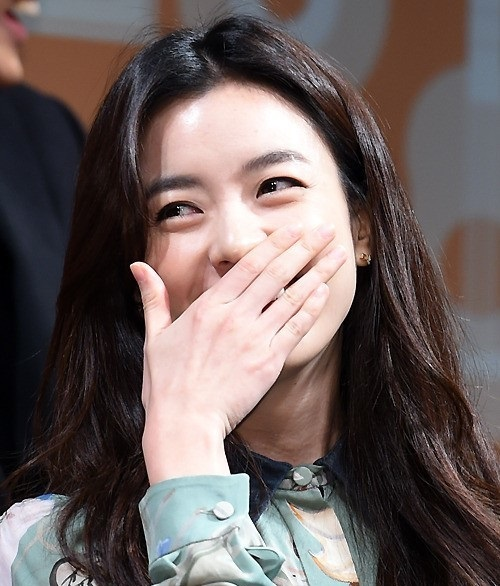face: (134, 85, 358, 372)
